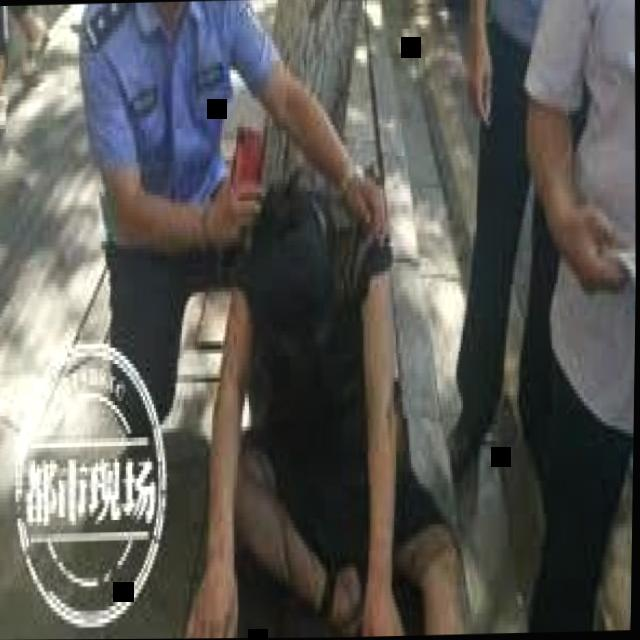Fall-Detected: (145, 142, 494, 634)
